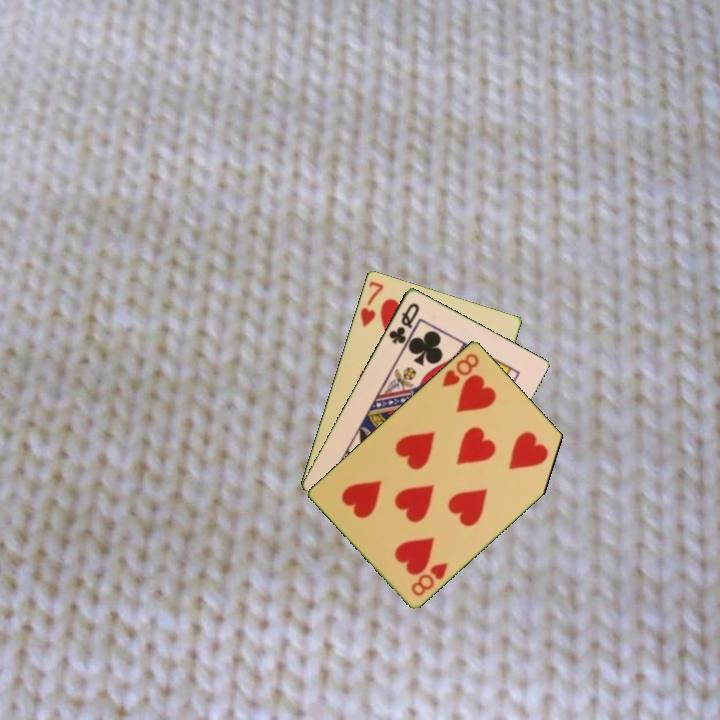7h: (357, 277, 386, 330)
8h: (408, 558, 451, 599), (438, 349, 482, 389)
Qc: (385, 299, 422, 347)
